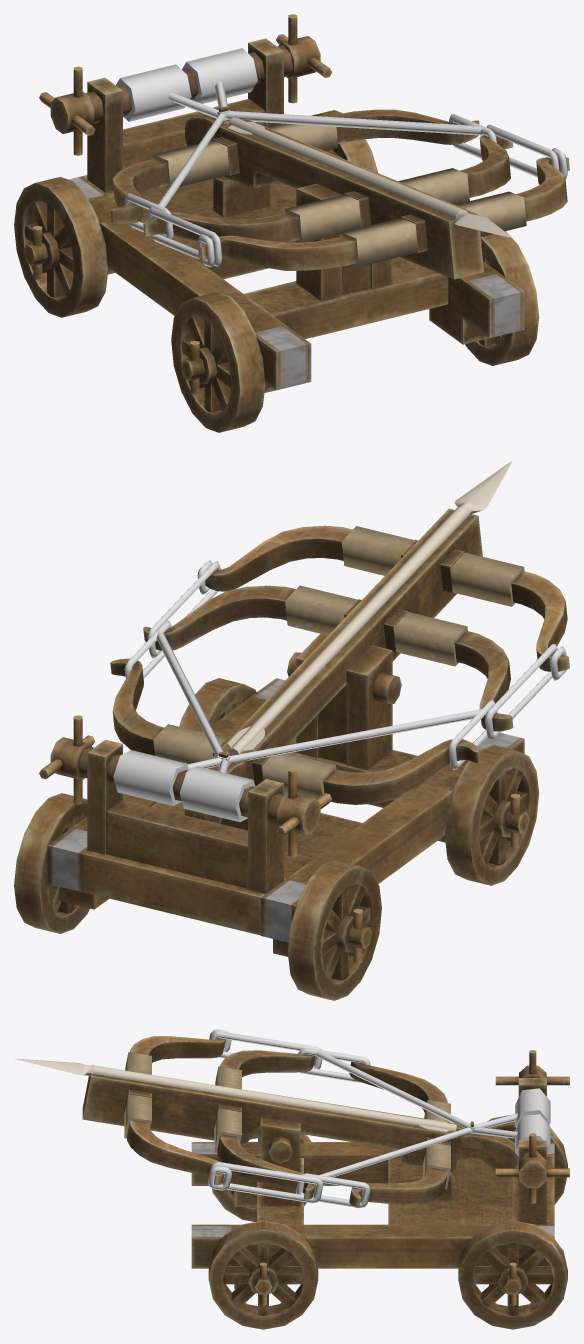
Rendered from 258-siegecrossbow.glb.
3 views of the same model, one above another, from view 1: azimuth 30°, elevation 25°; view 2: azimuth 150°, elevation 25°; view 3: azimuth 270°, elevation 25° (orthographic). The views are drawn at different scales.
Size of the model in its own units: 2.39 by 1.66 by 3.93.
Materials: 2 (1 with a texture image).
